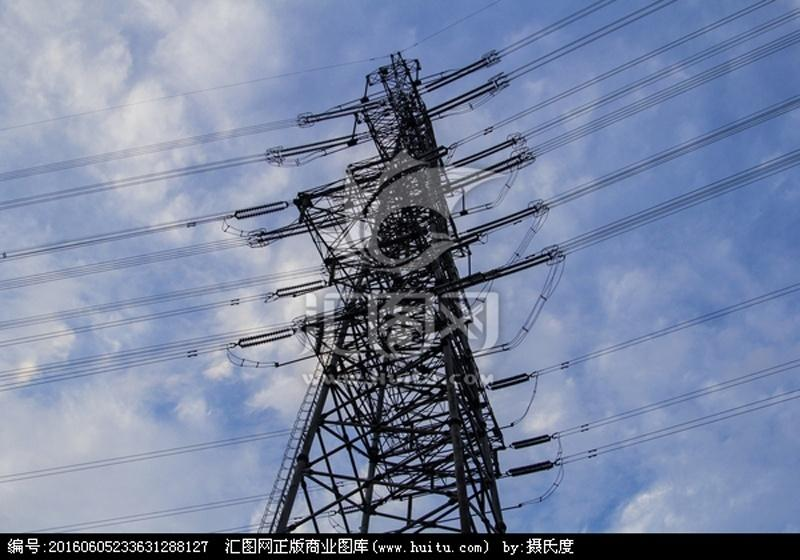power_tower: (222, 42, 567, 526)
